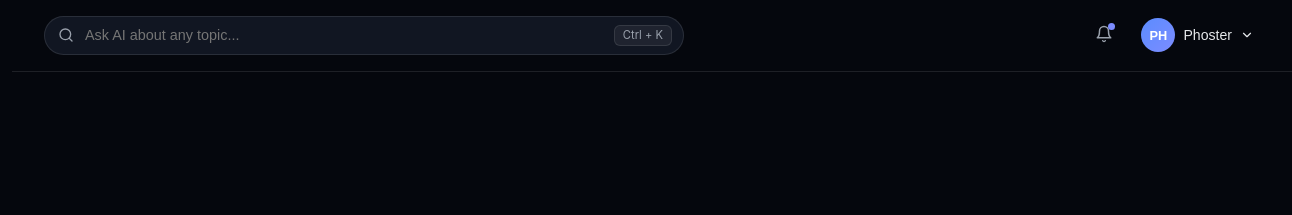
Test: TopBar account dropdown › links to the account settings page
Click the text "phoster" at (1208, 35), box [1184,27,1232,43]
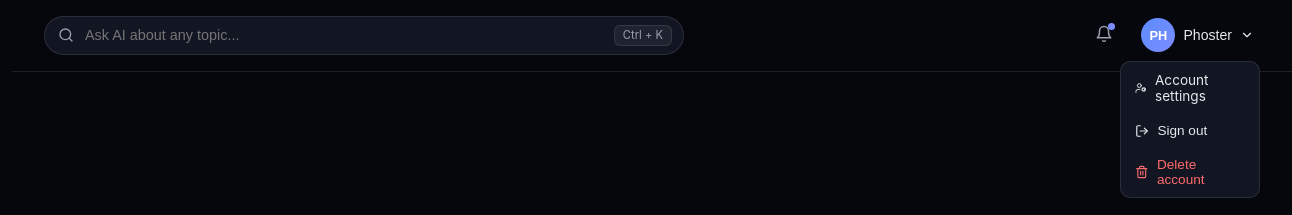
Click the link "Account settings" at (1172, 88), box [1135,72,1209,104]
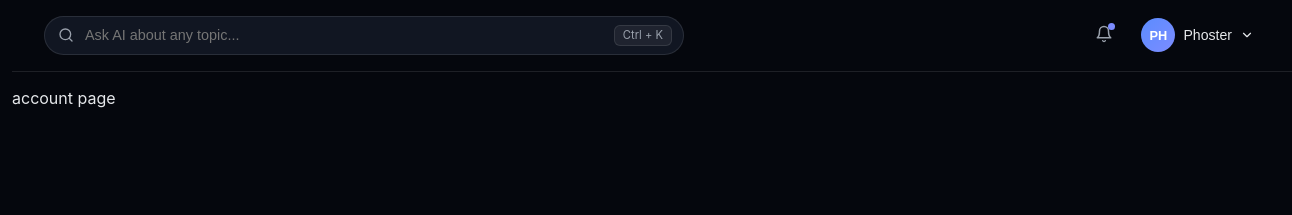
Check: the text "account page" is shown, box [12,88,116,108]
